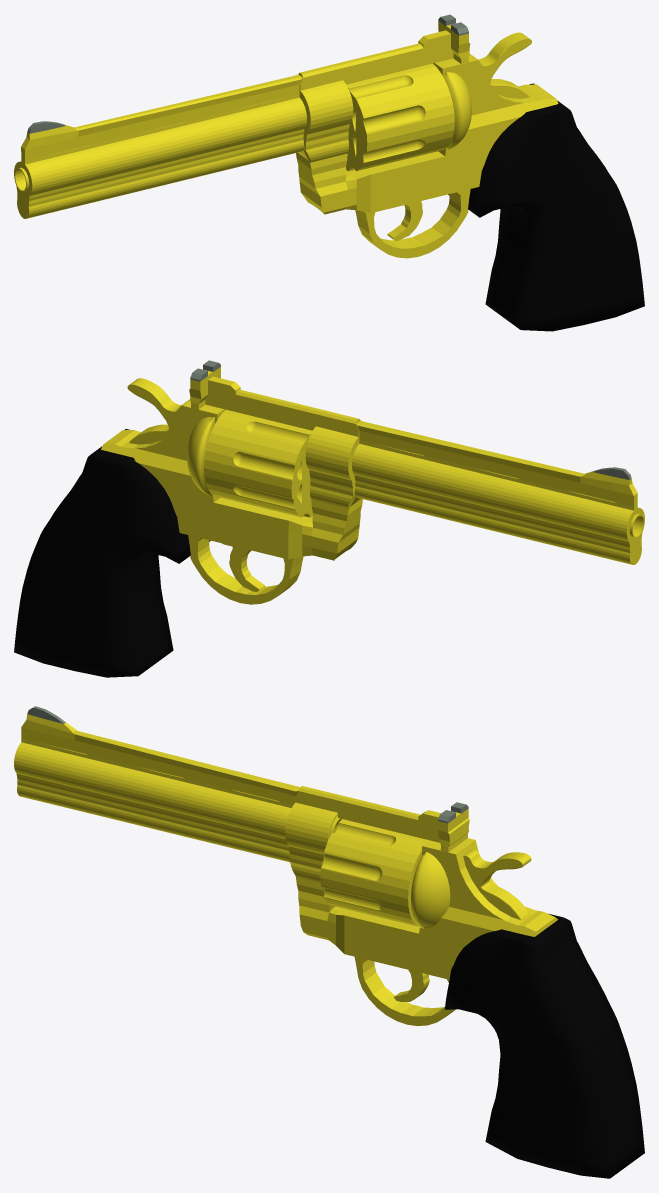
Rendered from Revolver.fbx.
The picture shows the model from 3 angles, top to bottom: view 1: azimuth 30°, elevation 25°; view 2: azimuth 150°, elevation 25°; view 3: azimuth 330°, elevation 25°; orthographic projection.
Visible parts, largest first — view 1: Revolver_Base, Revolver_cylinder_reload, Revolver_Hammer, Revolver_Trigger; view 2: Revolver_Base, Revolver_cylinder_reload, Revolver_Hammer, Revolver_Trigger; view 3: Revolver_Base, Revolver_cylinder_reload, Revolver_Hammer.
Boxes of the visible parts, bbox=[...] form: Revolver_Base: bbox=[14, 14, 644, 331]; Revolver_cylinder_reload: bbox=[346, 63, 454, 171]; Revolver_Hammer: bbox=[469, 32, 531, 98]; Revolver_Trigger: bbox=[387, 201, 422, 240]; Revolver_Base: bbox=[14, 360, 644, 677]; Revolver_cylinder_reload: bbox=[204, 409, 312, 517]; Revolver_Hammer: bbox=[127, 378, 189, 444]; Revolver_Trigger: bbox=[222, 543, 264, 591]; Revolver_Base: bbox=[14, 706, 644, 1178]; Revolver_cylinder_reload: bbox=[320, 819, 429, 926]; Revolver_Hammer: bbox=[463, 849, 531, 920].
Size of the model in its own units: 0.5223 by 0.2618 by 0.0713.
